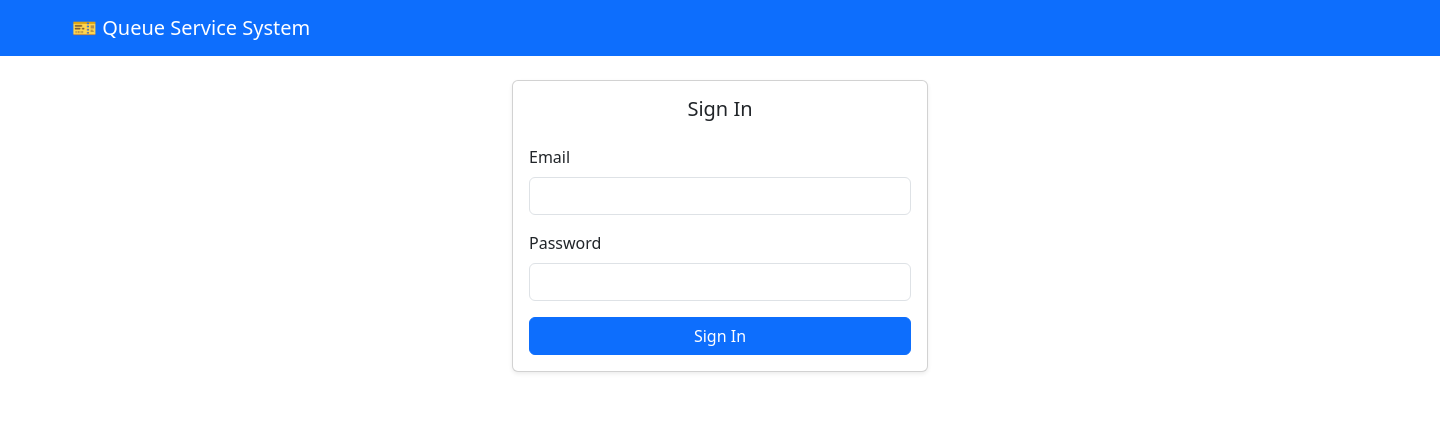
Test: UI-07: AC-07b Multi-counter join rules & button states › disables Join for counter with active ticket and enables for other open counter
Expected: the form with test id "login-form" is shown, [529, 145, 911, 355]
Type "customer1@test.com" into the field with test id "email-input".
click(720, 196); type("customer1@test.com")  # box [529, 177, 911, 215]
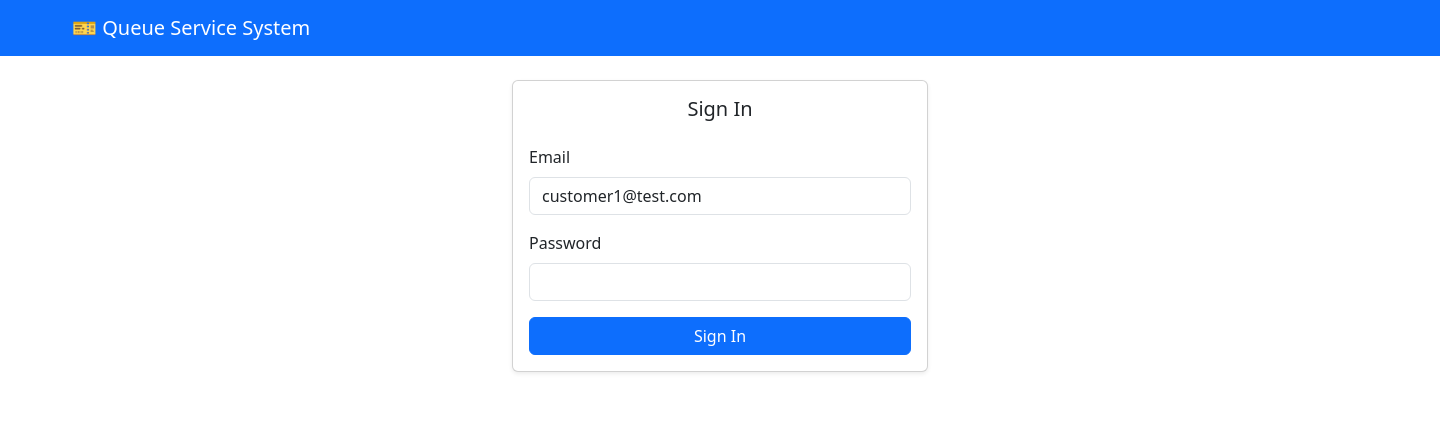
Type "password123" into the password field with test id "password-input".
click(720, 282); type("password123")  # box [529, 263, 911, 301]
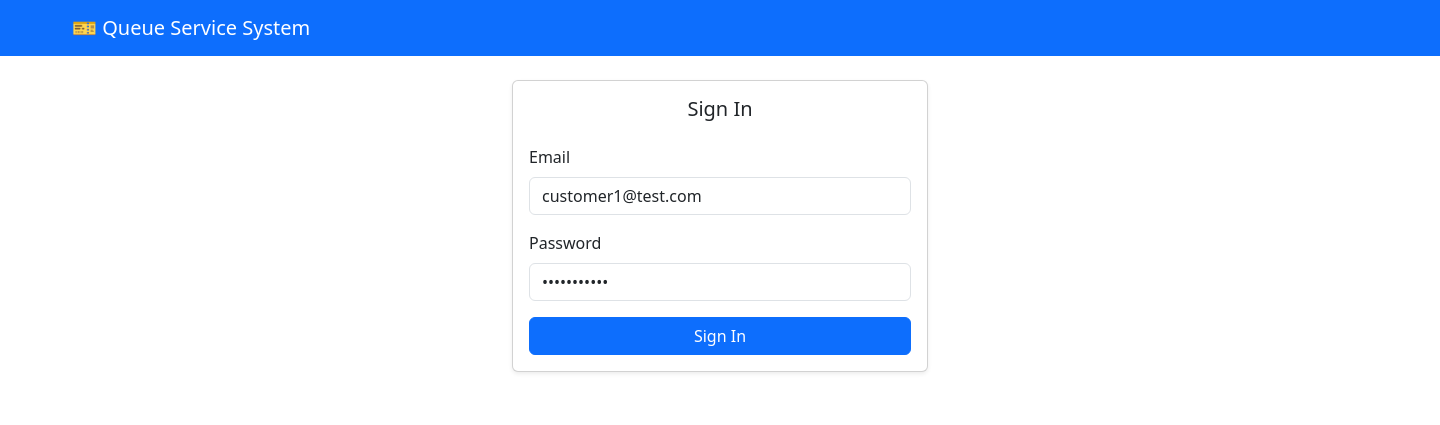
Click the button with test id "login-btn".
click(720, 336)  # box [529, 317, 911, 355]
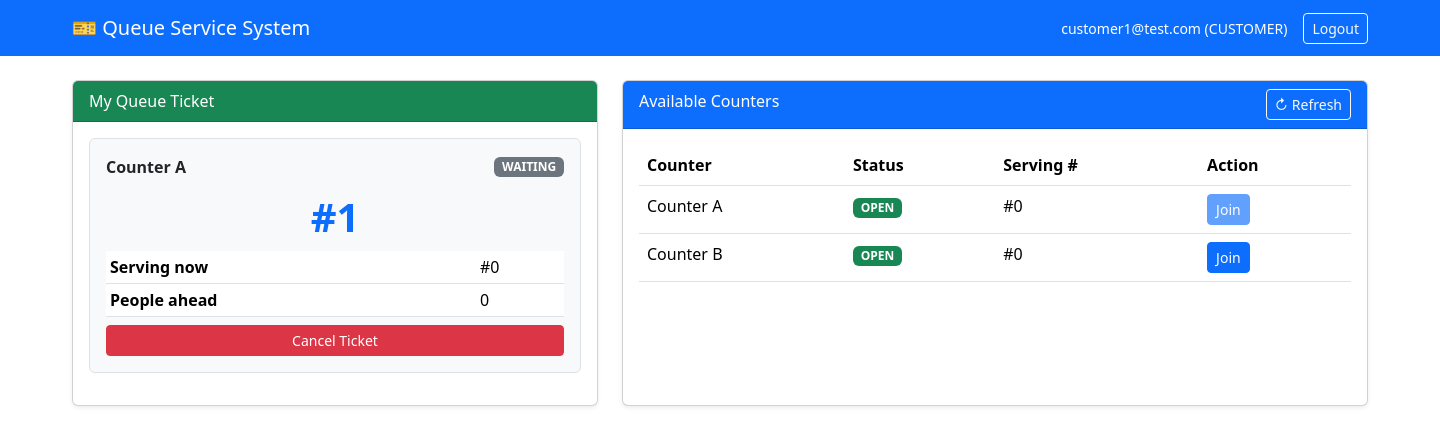
Result: the element with test id "customer-dashboard" is shown
Result: the button with test id "join-btn-1" is disabled at [1207, 194, 1250, 225]
Result: the button with test id "join-btn-2" is enabled at [1207, 242, 1250, 273]
